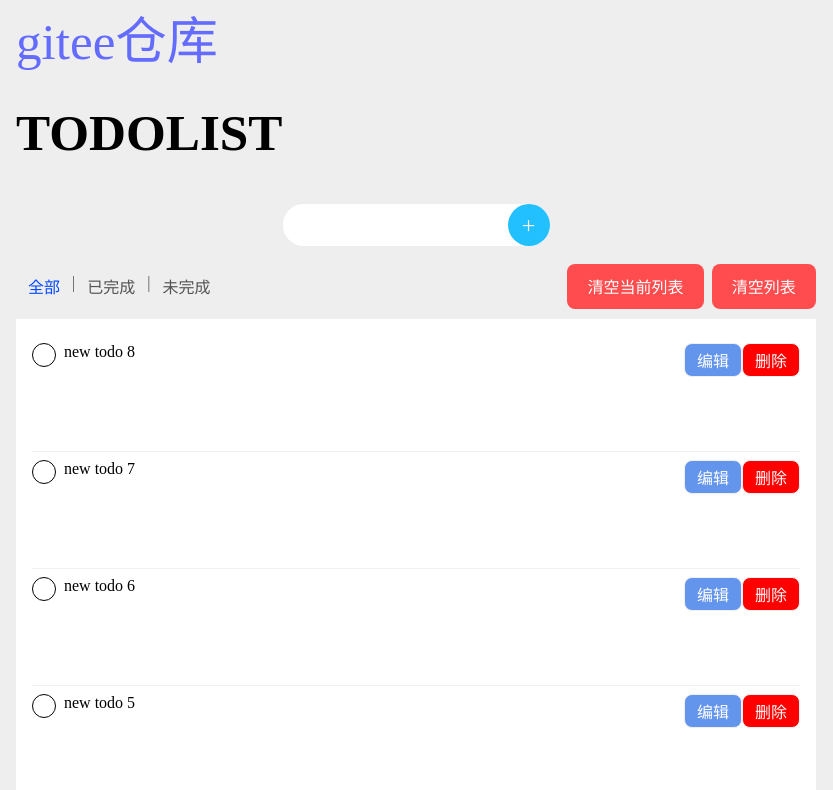
测试所有Todo组件 › 测试修改Todo
// 模拟用户点击编辑按钮
Click the button with class "edit-btn" in the row of "new todo 8": (713, 360) [684,343,742,377]
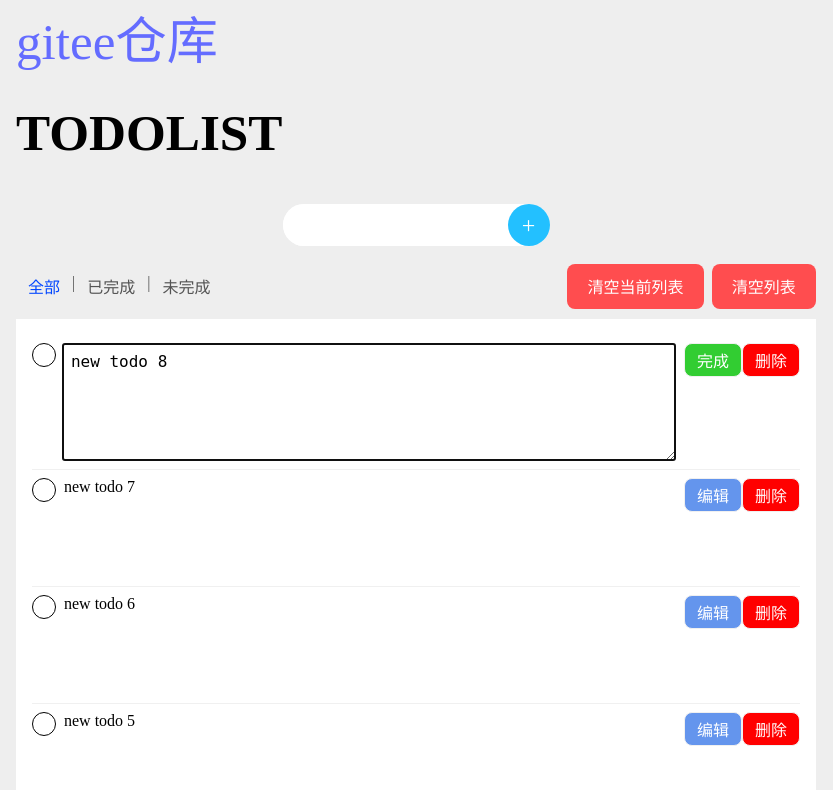
// 模拟用户在输入框中输入新的文本
Replace the text in the text box with "updated todo text": (369, 402) [62,343,676,461]
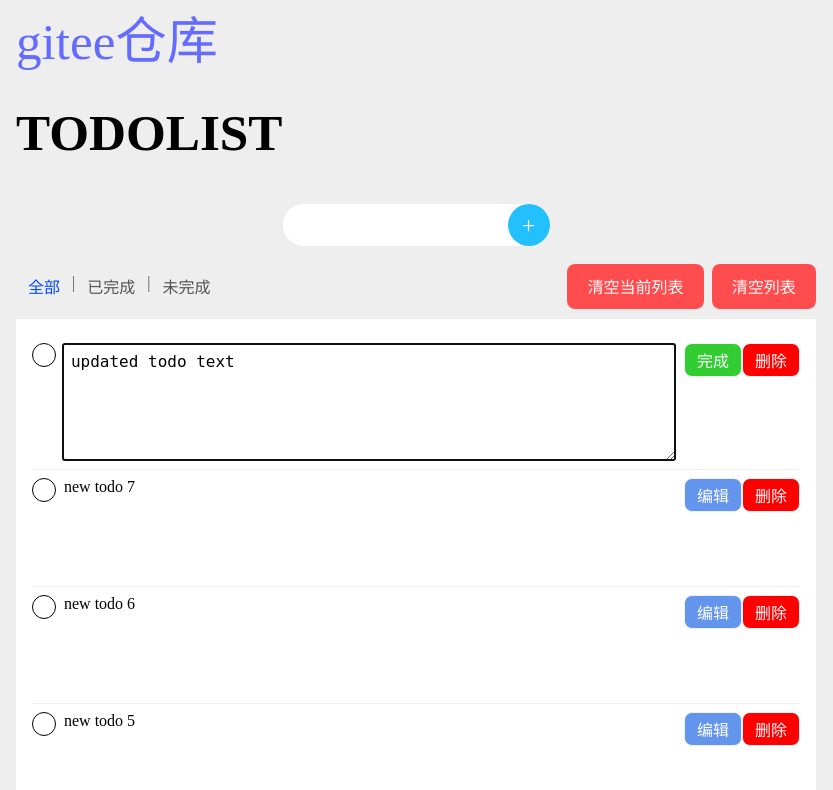
// 模拟用户点击完成按钮
Click the button with class "edit-done-btn": (713, 360) [684,343,742,377]
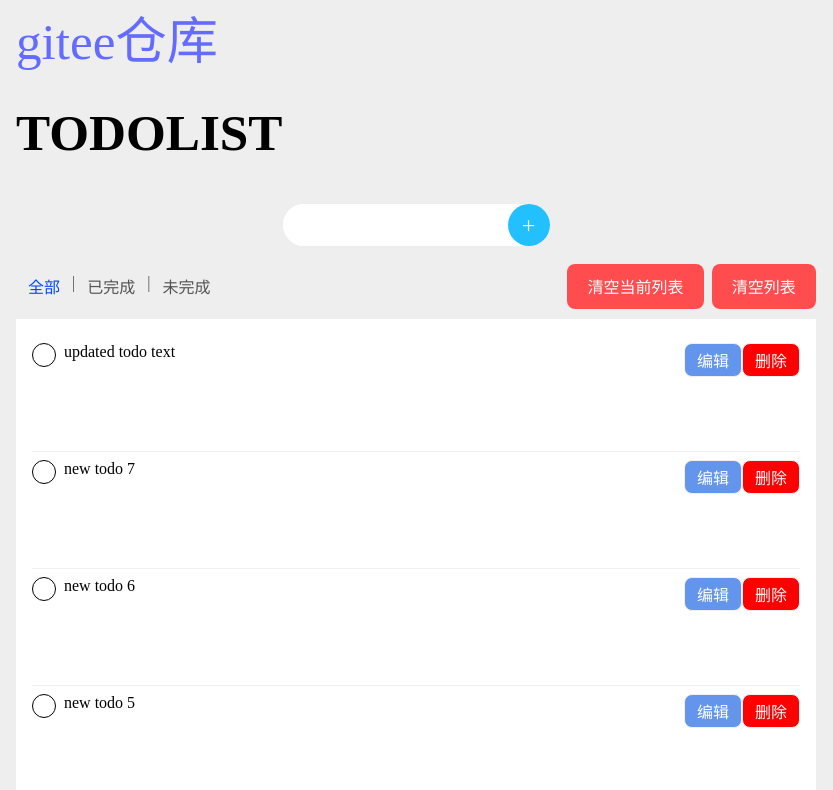
expect the text "updated todo text" is shown: met, box [64,343,175,360]
